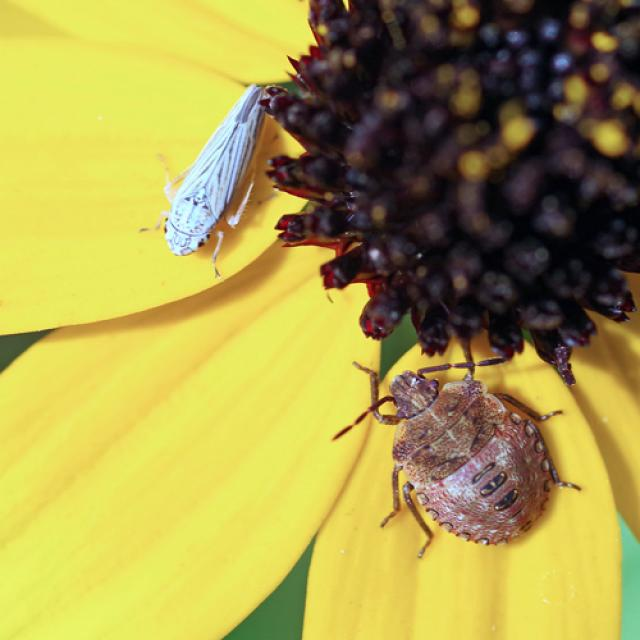Yechan: (150, 76, 276, 282)
